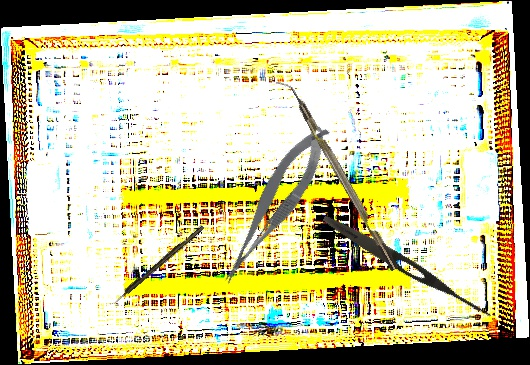Chopper: (274, 74, 399, 277)
Dressing Forceps: (319, 210, 496, 323)
Hook Surgical: (110, 224, 206, 306)
Micro Scissor: (202, 118, 345, 289)
